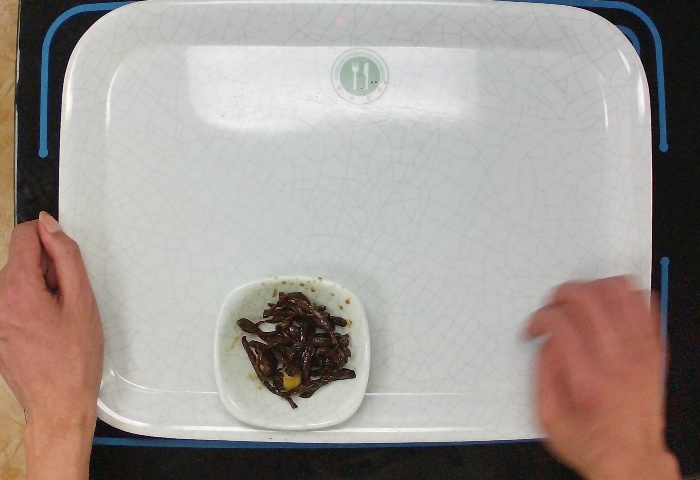JYsf-Si_Fang_Die: (209, 271, 375, 434)
